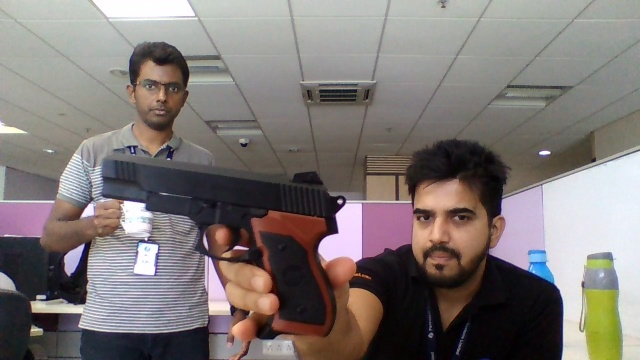gun: (100, 152, 339, 251)
